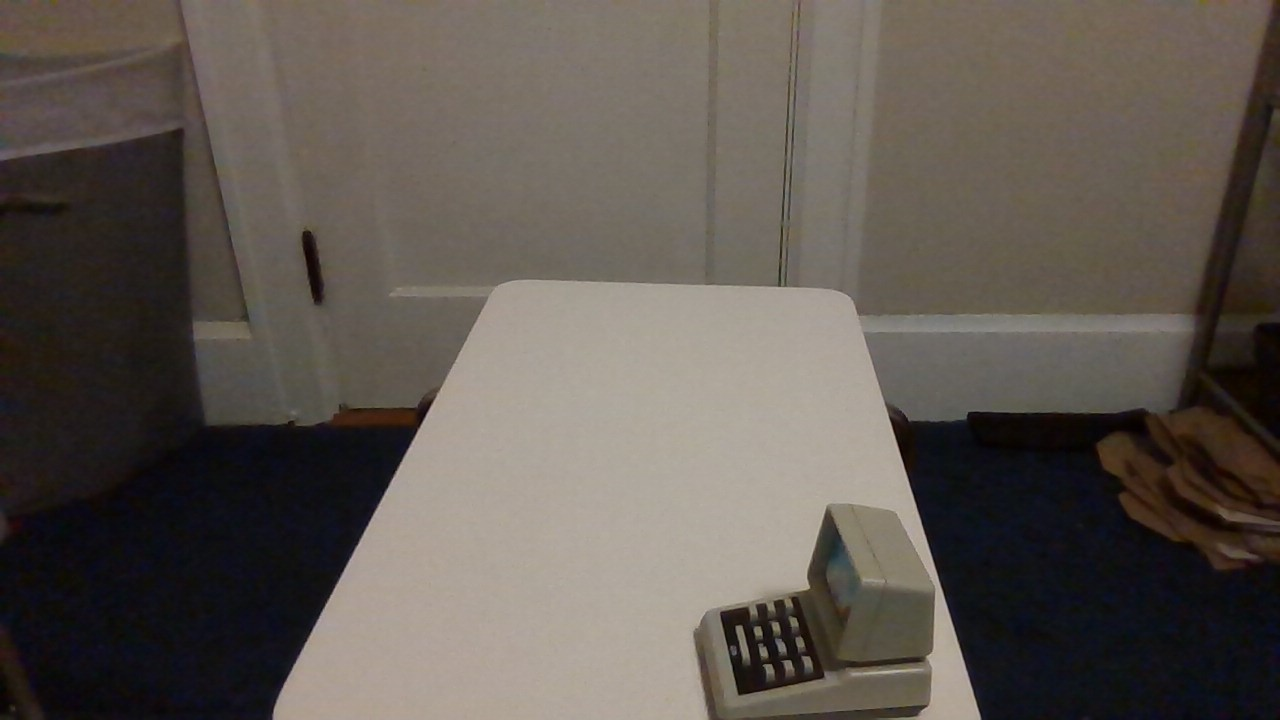Toy: (668, 478, 943, 720)
